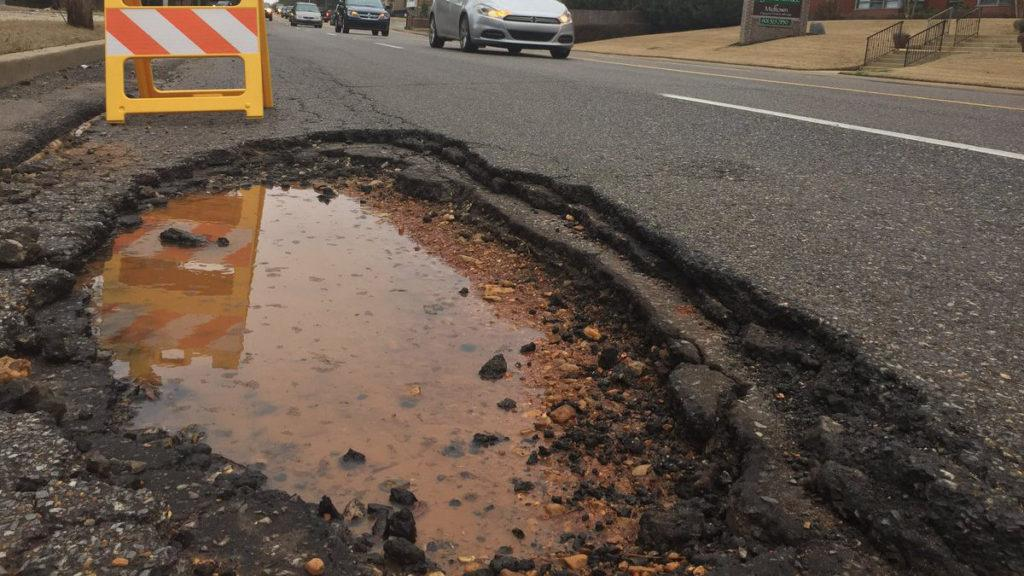Pothole: (18, 127, 1000, 572)
